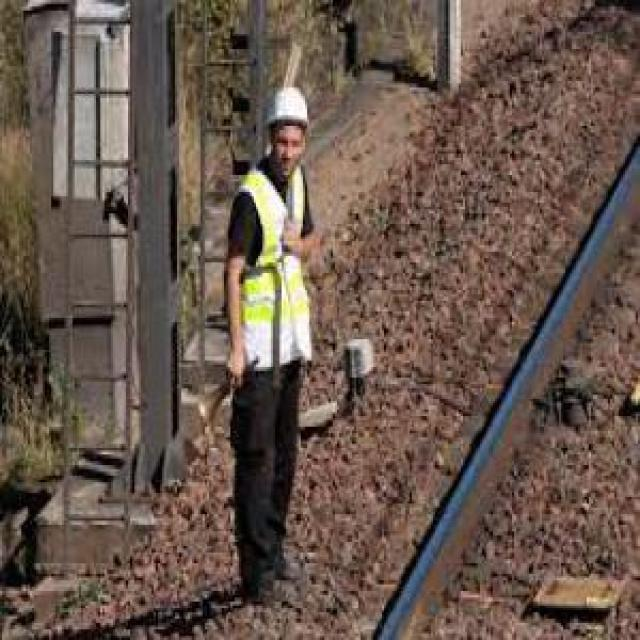rail: (349, 113, 640, 639)
